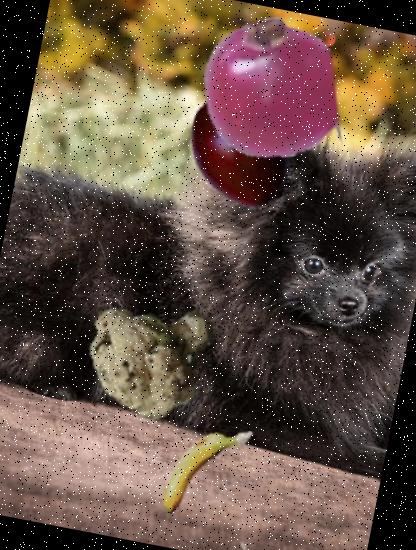Banana: (145, 410, 266, 532)
Cauliflower: (76, 276, 226, 426)
Redcurrant: (186, 6, 352, 171)
Tamarillo: (166, 70, 314, 219)
